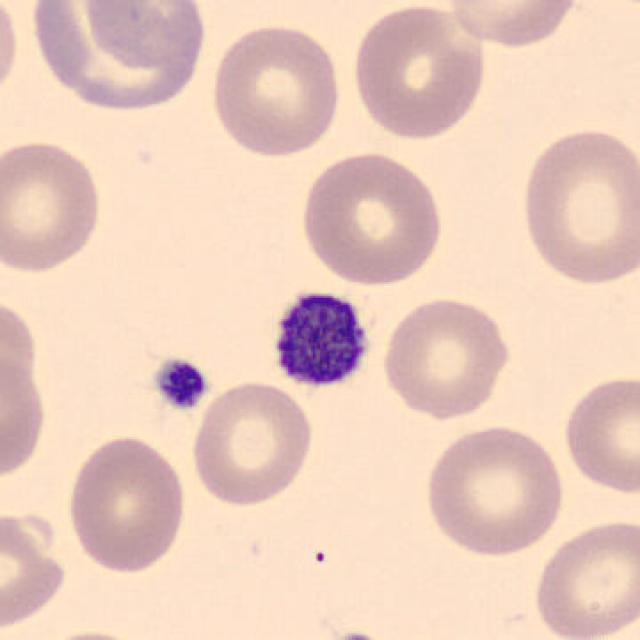Platelets: (263, 284, 377, 395), (149, 354, 210, 412)
RBC: (295, 146, 448, 289), (23, 1, 212, 114), (419, 421, 569, 559), (346, 2, 491, 143), (516, 124, 638, 289), (206, 20, 347, 160), (62, 432, 190, 576), (378, 293, 516, 421), (186, 378, 316, 510), (0, 134, 107, 277), (530, 515, 638, 640), (558, 370, 638, 497), (78, 0, 210, 74), (0, 307, 52, 485), (0, 506, 71, 633), (441, 0, 583, 49), (0, 0, 23, 108), (590, 0, 640, 18)
